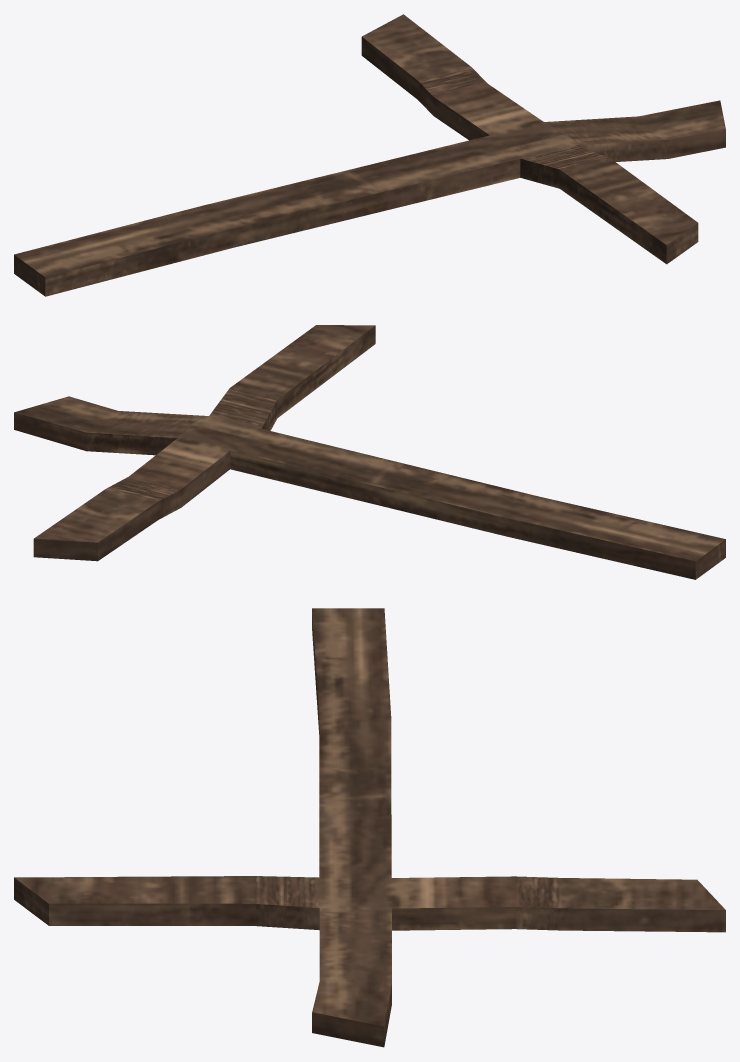
The model's file is SM_Corss.fbx.
3 views of the same model, one above another, from view 1: azimuth 30°, elevation 25°; view 2: azimuth 150°, elevation 25°; view 3: azimuth 270°, elevation 25° (orthographic). The views are drawn at different scales.
Visible parts, largest first — view 1: SM_Corss_LOD0; view 2: SM_Corss_LOD0; view 3: SM_Corss_LOD0.
Boxes of the visible parts, box(x1,y1,x2,y2) form: SM_Corss_LOD0: box(14, 14, 725, 296); SM_Corss_LOD0: box(14, 325, 725, 579); SM_Corss_LOD0: box(14, 608, 725, 1047).
Bounding box in the file's own units: 30.2 × 22.87 × 1.78.
